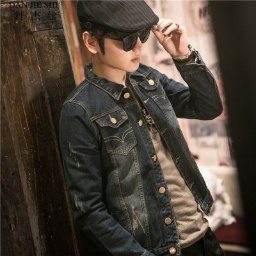face: (77, 15, 154, 76)
